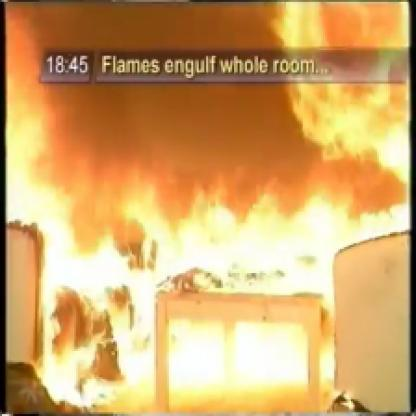fire: (5, 18, 147, 399), (152, 181, 353, 401), (254, 2, 416, 193)
